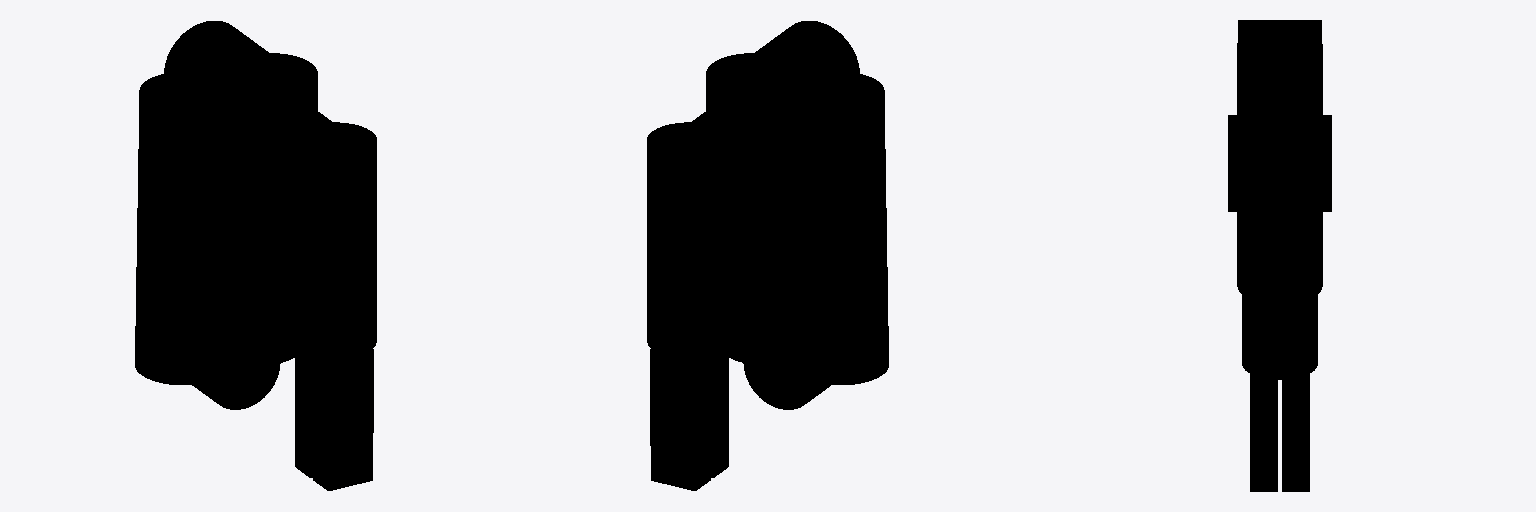
The robot description file, URDF, robot "reach7":
<?xml version="1.0"?>
<robot name="reach7">

<material name="black">
  <color rgba="0 0 0 1"/>
</material>

  <link name="base_link">
	  <visual>
		  <geometry>
        <box size="0.077 0.112 0.080"/>
      </geometry>
      <origin rpy="0 0 0" xyz="-0.026 0 0"/>
      <material name="black"/>
    </visual>
		<collision>
		  <geometry>
        <box size="0.077 0.112 0.080"/>
      </geometry>
      <origin rpy="0 0 0" xyz="-0.026 0 0"/>
    </collision>
    <inertial>
      <mass value="0.341"/>
      <origin xyz="-0.075 -0.006 -0.003"/>
      <inertia ixx="0.000099" ixy="0.000139" ixz="0.000115" iyy="0.002920" iyz="0.000003" izz="0.002934"/>
    </inertial>
  </link>

  <link name="shoulder_link">
    <visual>
      <geometry>
        <cylinder length="0.145" radius="0.046" />
      </geometry>
      <material name="black"/>
      <origin rpy="0 0 0" xyz="0 0 0.036"/>
    </visual>
    <collision>
      <geometry>
        <cylinder length="0.145" radius="0.046"/>
      </geometry>
      <origin rpy="0 0 0" xyz="0 0 0.036"/>
    </collision>
    <inertial>
      <mass value="0.194"/>
      <origin xyz="0.005 -0.001 0.016"/>
      <inertia ixx="0.000189" ixy="0.000005" ixz="0.000054" iyy="0.000213" iyz="0.000003" izz="0.000067"/>
    </inertial>
  </link>

  <link name="upper_arm_link">
    <visual>
      <geometry>
        <cylinder length="0.090" radius="0.046" />
      </geometry>
      <origin rpy="0 0 0" xyz="0 0 0"/>
      <material name="black"/>
		</visual>
		<visual>
      <geometry>
        <cylinder length="0.290" radius="0.046" />
      </geometry>
      <origin rpy="0 1.57075 0" xyz="0.145 0.046 0"/>
      <material name="black"/>
    </visual>
    <collision>
      <geometry>
        <cylinder length="0.290" radius="0.046"/>
      </geometry>
      <origin rpy="0 1.57075 0" xyz="0.145 0.046 0"/>
    </collision>
    <collision>
      <geometry>
        <cylinder length="0.090" radius="0.046"/>
      </geometry>
      <origin rpy="0 0 0" xyz="0 0 0"/>
    </collision>
    <inertial>
      <mass value="0.429"/>
      <origin xyz="0.073 0.0 0.0"/>
      <inertia ixx="0.000087" ixy="-0.000076" ixz="-0.000010" iyy="0.003190" iyz="0.000000" izz="0.003213"/>
    </inertial>
  </link>

  <link name="forearm_link">
    <visual>
      <geometry>
        <cylinder length="0.077" radius = "0.0408" />
      </geometry>
      <origin rpy="0 0 0" xyz="0 0 0"/>
      <material name="black"/>
    </visual>
    <collision>
      <geometry>
        <cylinder length="0.077" radius="0.0408"/>
      </geometry>
      <origin rpy="0 0 0" xyz="0 0 0"/>
    </collision>
    <inertial>
      <mass value="0.115"/>
      <origin xyz="0.017 -0.026 -0.002"/>
      <inertia ixx="0.000120" ixy="-0.000061" ixz="-0.000001" iyy="0.000062" iyz="0.000000" izz="0.000156"/>
    </inertial>
  </link>

  <link name="wrist_link1">
    <visual>
      <geometry>
        <cylinder length="0.2007" radius="0.0408" />
      </geometry>
      <origin rpy="0 0 0" xyz="0 0 -0.10035"/>
      <material name="black"/>
    </visual>
    <collision>
      <geometry>
        <cylinder length="0.2007" radius="0.0408"/>
      </geometry>
      <origin rpy="0 0 0" xyz="0 0 -0.10035"/>
    </collision>
    <inertial>
      <mass value="0.333"/>
      <origin xyz="0.0 0.003 -0.098"/>
      <inertia ixx="0.003709" ixy="-0.000002" ixz="-0.000004" iyy="0.003734" iyz="0.000000" izz="0.000079"/>
    </inertial>
  </link>

  <link name="wrist_link2">
    <visual>
      <geometry>
        <cylinder length="0.077" radius="0.0408" />
      </geometry>
      <origin rpy="0 0 0" xyz="0 0 0"/>
      <material name="black"/>
    </visual>
    <collision>
      <geometry>
        <cylinder length="0.077" radius="0.0408"/>
      </geometry>
      <origin rpy="0 0 0" xyz="0 0 0"/>
    </collision>
    <inertial>
      <mass value="0.333"/>
      <origin xyz="0.0 0.003 -0.098"/>
      <inertia ixx="0.003709" ixy="-0.000002" ixz="-0.000004" iyy="0.003734" iyz="0.000000" izz="0.000079"/>
    </inertial>
  </link>

  <link name="wrist_link3">
    <visual>
      <geometry>
        <cylinder length="0.21382" radius="0.0408" />
      </geometry>
      <origin rpy="0 0 0" xyz="0 0 -0.10691"/>
      <material name="black"/>
    </visual>
    <collision>
      <geometry>
        <cylinder length="0.21382" radius="0.0408"/>
      </geometry>
      <origin rpy="0 0 0" xyz="0 0 -0.10691"/>
    </collision>
    <inertial>
      <mass value="0.333"/>
      <origin xyz="0.0 0.003 -0.098"/>
      <inertia ixx="0.003709" ixy="-0.000002" ixz="-0.000004" iyy="0.003734" iyz="0.000000" izz="0.000079"/>
    </inertial>
  </link>


  <link name="tip">
  </link>

  <link name="jaw1">
    <visual>
      <geometry>
      	<box size="0.140 0.030 0.050" />
      </geometry>
      <origin rpy="0 0 0" xyz="0.070 -0.015 0"/>
      <material name="black"/>
    </visual>
    <collision>
      <geometry>
        <box size="0.140 0.030 0.050"/>
      </geometry>
      <origin rpy="0 0 0" xyz="0.070 -0.015 0"/>
    </collision>
  </link>

  <link name="jaw2">
    <visual>
      <geometry>
      	<box size="0.140 0.030 0.050" />
      </geometry>
      <origin rpy="0 0 0" xyz="0.070 0.015 0"/>
      <material name="black"/>
    </visual>
    <collision>
      <geometry>
        <box size="0.140 0.030 0.050"/>
      </geometry>
      <origin rpy="0 0 0" xyz="0.070 0.015 0"/>
    </collision>
  </link>


  <joint name="joint7" type="revolute">
    <parent link="base_link"/>
    <child link="shoulder_link"/>
    <origin xyz="0 0 0" rpy="0 0 3.141592"/>
    <axis xyz="0 0 1"/>
    <limit effort="9.0" lower="0.0" upper = "6.3" velocity="1.0"/>
  </joint>

  <joint name="joint6" type="revolute">
    <parent link="shoulder_link"/>
    <child link="upper_arm_link"/>
    <origin xyz="0.046 0 0.10976" rpy="1.57075 1.553 0"/>
    <axis xyz="0 0 1"/>
    <limit effort="9.0" lower="0.0" upper = "3.2" velocity="1.0"/>
  </joint>

  <joint name="joint5" type="revolute">
    <parent link="upper_arm_link"/>
    <child link="forearm_link"/>
    <origin xyz="0.2896 0 0" rpy="0 0 -1.586"/>
    <axis xyz="0 0 1"/>
    <limit effort="9.0" lower="0.0" upper = "3.2" velocity="1.0"/>
  </joint>

  <joint name="joint4" type="revolute">
    <parent link="forearm_link"/>
    <child link="wrist_link1"/>
    <origin xyz="0.0408 0 0" rpy="-1.57075 0 0"/>
    <axis xyz="0 0 1"/>
    <limit effort="5.0" lower="0.0" upper = "6.3" velocity="1.0"/>
  </joint>

  <joint name="joint3" type="revolute">
    <parent link="wrist_link1"/>
    <child link="wrist_link2"/>
    <origin xyz="0.0409 0 -0.2007" rpy="-1.57075 0 0"/>
    <axis xyz="0 0 1"/>
    <limit effort="5.0" lower="0.0" upper = "3.2" velocity="1.0"/>
  </joint>

  <joint name="joint2" type="revolute">
    <parent link="wrist_link2"/>
    <child link="wrist_link3"/>
    <origin xyz="0.04091 0 0" rpy="-1.57075 0 0"/>
    <axis xyz="0 0 1"/>
    <limit effort="5.0" lower="0.0" upper = "6.3" velocity="1.0"/>
  </joint>

  <joint name="joint1_1" type="revolute">
    <parent link="wrist_link3"/>
    <child link="jaw1"/>
    <origin xyz="0 0.0325 -0.21382" rpy="0 1.57075 0"/>
    <axis xyz="0 0 1"/>
    <limit effort="5.0" lower="0.0" upper = "0.5" velocity="1.0"/>
	</joint>

  <joint name="joint1_2" type="revolute">
    <parent link="wrist_link3"/>
    <child link="jaw2"/>
    <origin xyz="0 -0.0325 -0.21382" rpy="0 1.57075 0"/>
    <axis xyz="0 0 -1"/>
    <limit effort="5.0" lower="0.0" upper = "0.5" velocity="1.0"/>
  </joint>


  <joint name="arm_to_tip" type="fixed">
    <parent link="wrist_link3"/>
    <child link="tip"/>
    <origin xyz="0 0 -0.31382" rpy="0 1.57075 0"/>
  </joint>


</robot>

--- What the picture shows (computed from the rendered views, not written in the file) ---
3 views of the same robot in one strip: view 1: azimuth 30°, elevation 25°; view 2: azimuth 150°, elevation 25°; view 3: azimuth 270°, elevation 25° (orthographic).
Robot: reach7 — 10 links, 9 joints (8 revolute, 1 fixed); root link base_link; default pose: all joints at 0.
Visible links, largest first — view 1: upper_arm_link, wrist_link3, jaw2, wrist_link1, base_link, shoulder_link, forearm_link, wrist_link2, jaw1; view 2: upper_arm_link, wrist_link3, jaw1, wrist_link1, base_link, shoulder_link, forearm_link, wrist_link2, jaw2; view 3: wrist_link3, upper_arm_link, shoulder_link, wrist_link2, jaw1, jaw2, base_link.
Link boxes in pixels (x1,y1,x2,y2): upper_arm_link: [135, 21, 292, 384]; wrist_link3: [301, 122, 376, 359]; jaw2: [313, 349, 373, 490]; wrist_link1: [231, 234, 302, 364]; base_link: [230, 151, 309, 247]; shoulder_link: [234, 53, 317, 219]; forearm_link: [192, 322, 280, 409]; wrist_link2: [313, 112, 354, 202]; jaw1: [295, 353, 312, 477]; upper_arm_link: [731, 21, 888, 384]; wrist_link3: [647, 122, 722, 359]; jaw1: [650, 349, 710, 490]; wrist_link1: [721, 234, 792, 364]; base_link: [714, 151, 793, 247]; shoulder_link: [706, 53, 789, 219]; forearm_link: [743, 322, 830, 409]; wrist_link2: [669, 112, 710, 202]; jaw2: [711, 353, 728, 477]; wrist_link3: [1242, 180, 1317, 379]; upper_arm_link: [1237, 20, 1322, 293]; shoulder_link: [1237, 81, 1322, 211]; wrist_link2: [1244, 132, 1315, 183]; jaw1: [1282, 374, 1309, 491]; jaw2: [1250, 374, 1277, 491]; base_link: [1228, 115, 1331, 211].
Bounding box of the posed robot: 0.2559 × 0.112 × 0.4891 m (x, y, z).
Geometry: primitives only (box / cylinder / sphere), no mesh files.
